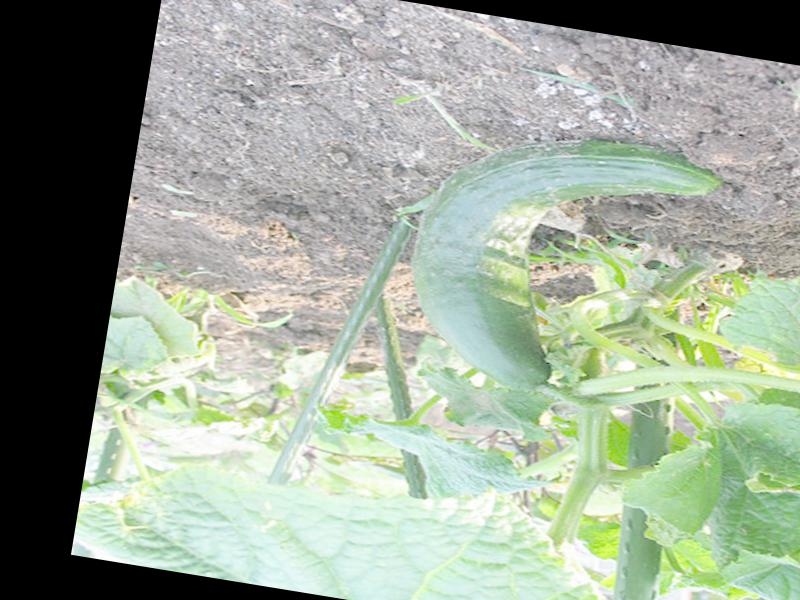Cucumber: (392, 110, 727, 417)
